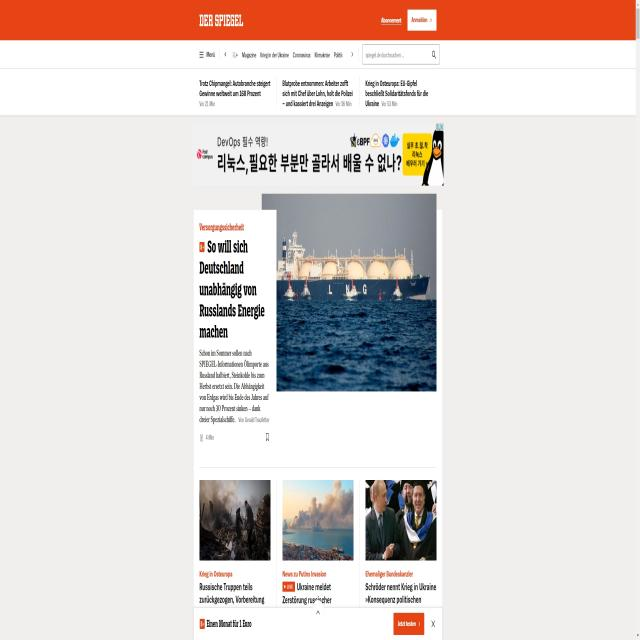search: (362, 42, 442, 68)
tab-bar: (196, 41, 357, 72)
